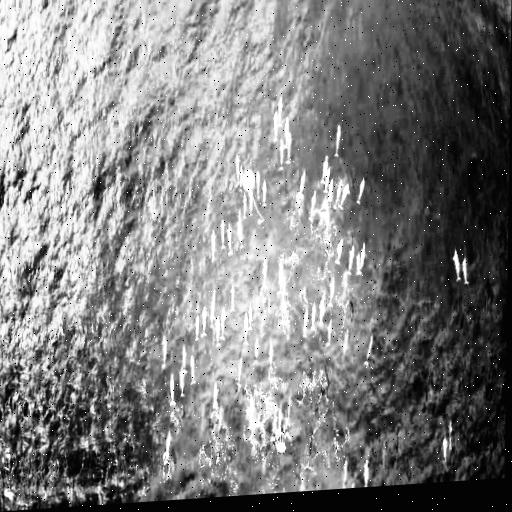balloon: (243, 169, 256, 193)
